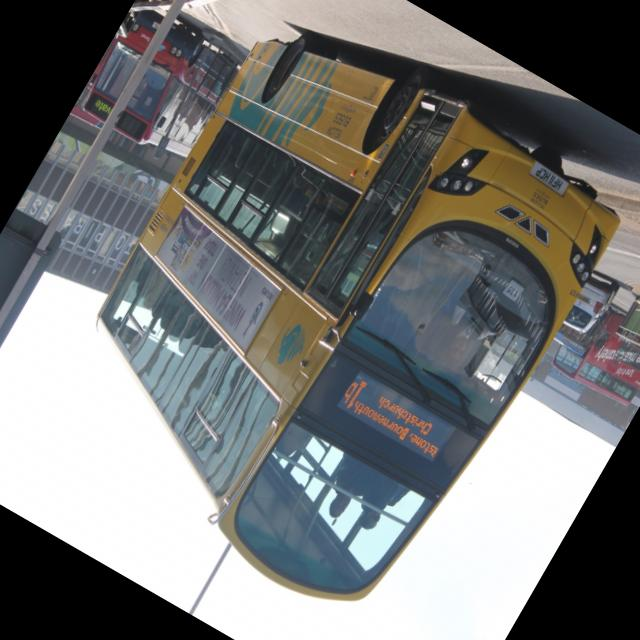bus: (24, 0, 640, 640), (72, 0, 246, 173), (546, 297, 640, 416), (70, 58, 132, 132), (549, 293, 611, 363)
